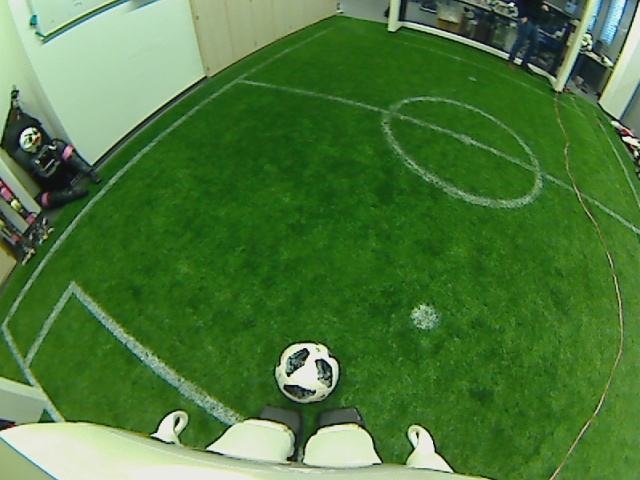ball: (272, 339, 342, 406)
